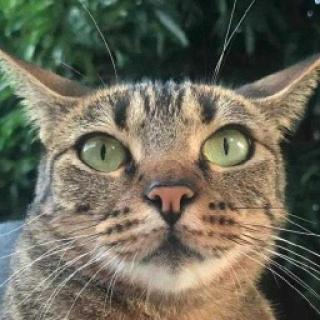cat: (0, 37, 320, 297)
nose: (137, 170, 202, 230)
